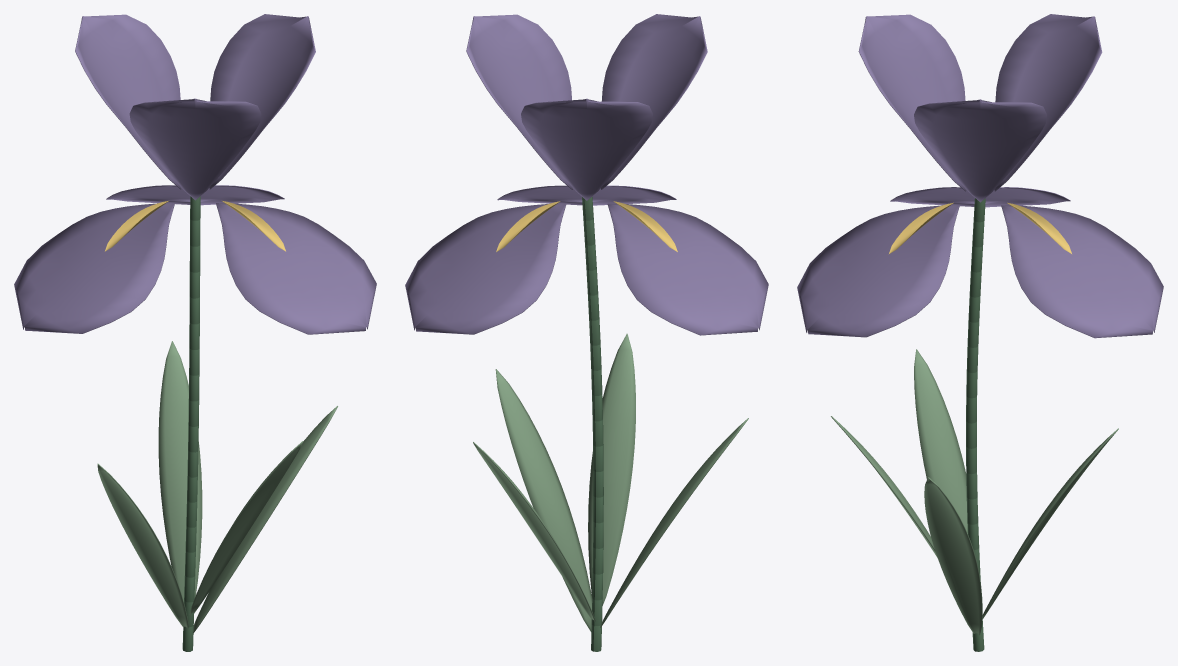
The model's file is iris-epic-v2.glb.
3 views of the same model, side by side, from view 1: azimuth 30°, elevation 25°; view 2: azimuth 150°, elevation 25°; view 3: azimuth 270°, elevation 25° (orthographic).
Visible parts, largest first — view 1: iris-epic-v2-petal, iris-epic-v2-leaf, iris-epic-v2-stem, iris-epic-v2-center; view 2: iris-epic-v2-petal, iris-epic-v2-leaf, iris-epic-v2-stem, iris-epic-v2-center; view 3: iris-epic-v2-petal, iris-epic-v2-leaf, iris-epic-v2-stem, iris-epic-v2-center.
Boxes of the visible parts, x1,y1,x2,y2 form: iris-epic-v2-petal: [14, 14, 376, 334]; iris-epic-v2-leaf: [97, 341, 337, 633]; iris-epic-v2-stem: [182, 196, 200, 651]; iris-epic-v2-center: [105, 201, 285, 251]; iris-epic-v2-petal: [405, 14, 768, 335]; iris-epic-v2-leaf: [473, 333, 748, 631]; iris-epic-v2-stem: [582, 196, 603, 651]; iris-epic-v2-center: [496, 201, 677, 251]; iris-epic-v2-petal: [797, 14, 1163, 338]; iris-epic-v2-leaf: [831, 349, 1118, 635]; iris-epic-v2-stem: [966, 198, 985, 651]; iris-epic-v2-center: [889, 202, 1071, 253].
Bounding box in the file's own units: 1.15 × 2.23 × 1.21.
